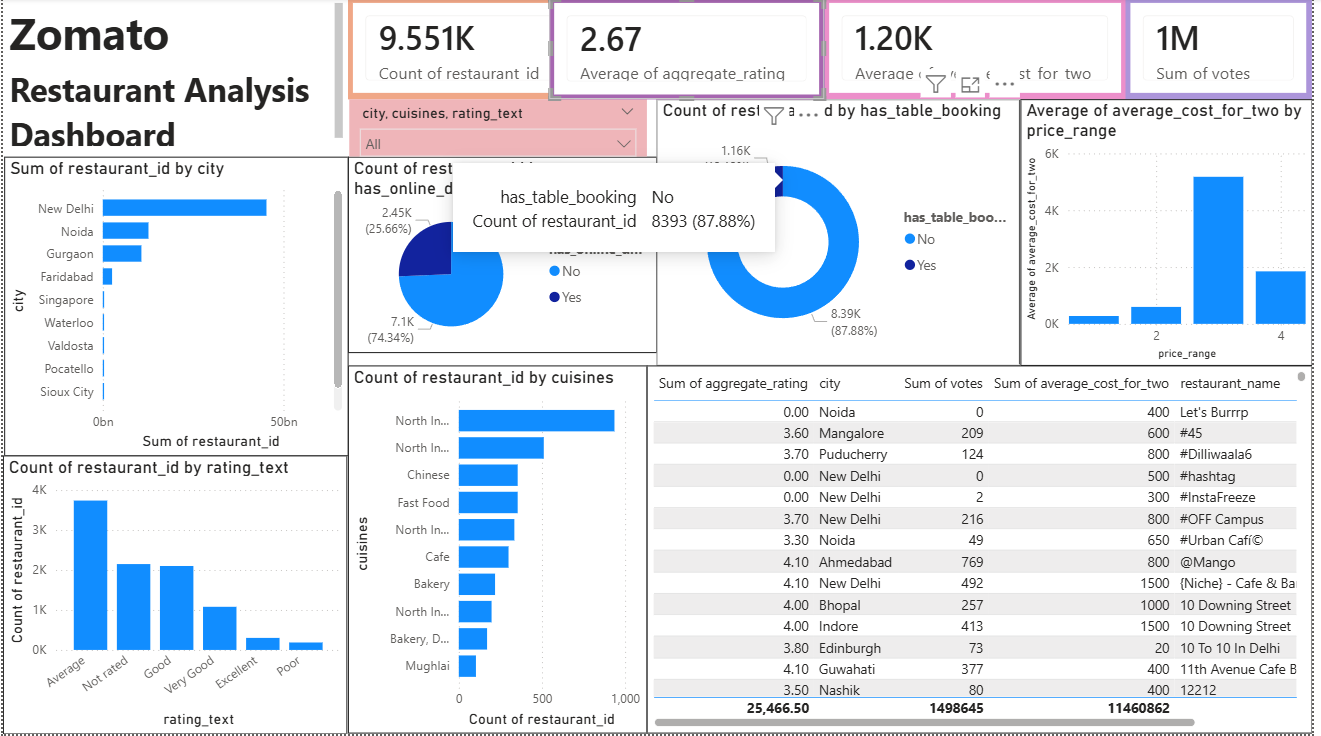

The dashboard page shown, as its layout file describes it:
{"tool":"powerbi","page":{"name":"Page 1","canvas":[1280,720],"ordinal":0},"visuals":[{"type":"cardVisual","fields":{"Data":["CountNonNull(linkedin zomato_cleaned.restaurant_id)"]},"box":[336.9,0,220.8,98.9],"z":0},{"type":"cardVisual","fields":{"Data":["Avg(linkedin zomato_cleaned.aggregate_rating)"]},"box":[534.8,0,268.1,98.9],"z":1000},{"type":"cardVisual","fields":{"Data":["Avg(linkedin zomato_cleaned.average_cost_for_two)"]},"box":[802.9,0,295.3,98.9],"z":2000},{"type":"cardVisual","fields":{"Data":["Sum(linkedin zomato_cleaned.votes)"]},"box":[1098.2,0,182.1,98.9],"z":3000},{"type":"clusteredBarChart","fields":{"Category":["linkedin zomato_cleaned.city"],"Y":["Sum(linkedin zomato_cleaned.restaurant_id)"]},"box":[1.4,154.8,336.9,292.5],"z":4000},{"type":"clusteredColumnChart","fields":{"Category":["linkedin zomato_cleaned.rating_text"],"Y":["CountNonNull(linkedin zomato_cleaned.restaurant_id)"]},"box":[0,447.3,336.9,272.4],"z":5000},{"type":"pieChart","fields":{"Category":["linkedin zomato_cleaned.has_online_delivery"],"Y":["CountNonNull(linkedin zomato_cleaned.restaurant_id)"]},"box":[336.9,154.8,302.5,192.1],"z":6000},{"type":"donutChart","fields":{"Category":["linkedin zomato_cleaned.has_table_booking"],"Y":["CountNonNull(linkedin zomato_cleaned.restaurant_id)"]},"box":[639.4,98.9,355.6,260.9],"z":7000},{"type":"barChart","fields":{"Category":["linkedin zomato_cleaned.cuisines"],"Y":["CountNonNull(linkedin zomato_cleaned.restaurant_id)"]},"box":[336.9,359.9,292.5,359.9],"z":8000},{"type":"tableEx","fields":{"Values":["Sum(linkedin zomato_cleaned.aggregate_rating)","linkedin zomato_cleaned.city","Sum(linkedin zomato_cleaned.votes)","Sum(linkedin zomato_cleaned.average_cost_for_two)","linkedin zomato_cleaned.restaurant_name"]},"box":[629.4,359.9,650.9,359.9],"z":10000},{"type":"slicer","fields":{"Values":["linkedin zomato_cleaned.city","linkedin zomato_cleaned.cuisines","linkedin zomato_cleaned.rating_text"]},"box":[338.4,98.9,291,55.9],"z":10001},{"type":"clusteredColumnChart","fields":{"Category":["linkedin zomato_cleaned.price_range"],"Y":["Avg(linkedin zomato_cleaned.average_cost_for_two)"]},"box":[995,98.9,285.3,260.9],"z":10002},{"type":"textbox","box":[1,0,336,150],"z":10003}]}

Visuals, with their boxes in screenshot pixels (x1, y1, x2, y2), scaled from the page's 1280x720 canvas onto the 1321x736 screenshot:
cardVisual - CountNonNull(linkedin zomato_cleaned.restaurant_id): <box>348,0,576,101</box>
cardVisual - Avg(linkedin zomato_cleaned.aggregate_rating): <box>552,0,829,101</box>
cardVisual - Avg(linkedin zomato_cleaned.average_cost_for_two): <box>829,0,1133,101</box>
cardVisual - Sum(linkedin zomato_cleaned.votes): <box>1133,0,1320,101</box>
clusteredBarChart - linkedin zomato_cleaned.city x Sum(linkedin zomato_cleaned.restaurant_id): <box>1,158,349,457</box>
clusteredColumnChart - linkedin zomato_cleaned.rating_text x CountNonNull(linkedin zomato_cleaned.restaurant_id): <box>0,457,348,735</box>
pieChart - linkedin zomato_cleaned.has_online_delivery x CountNonNull(linkedin zomato_cleaned.restaurant_id): <box>348,158,660,355</box>
donutChart - linkedin zomato_cleaned.has_table_booking x CountNonNull(linkedin zomato_cleaned.restaurant_id): <box>660,101,1027,368</box>
barChart - linkedin zomato_cleaned.cuisines x CountNonNull(linkedin zomato_cleaned.restaurant_id): <box>348,368,650,735</box>
tableEx - Sum(linkedin zomato_cleaned.aggregate_rating) x linkedin zomato_cleaned.city: <box>650,368,1320,735</box>
slicer - linkedin zomato_cleaned.city x linkedin zomato_cleaned.cuisines: <box>349,101,650,158</box>
clusteredColumnChart - linkedin zomato_cleaned.price_range x Avg(linkedin zomato_cleaned.average_cost_for_two): <box>1027,101,1320,368</box>
textbox: <box>1,0,348,153</box>
